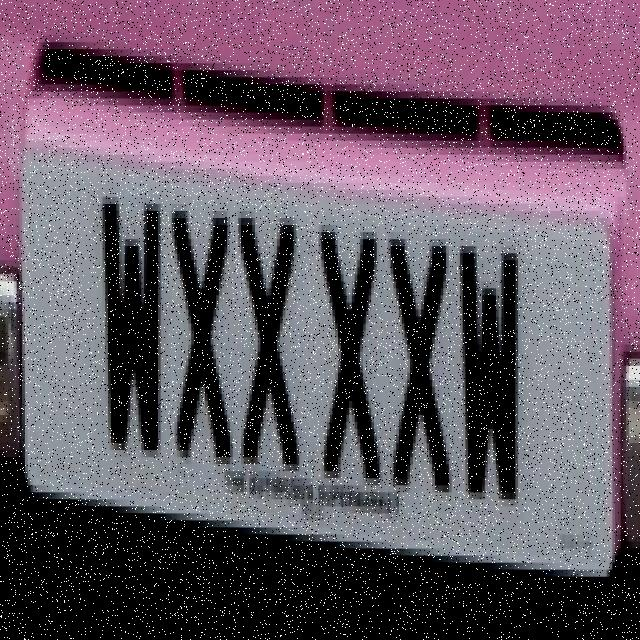licenseplate: (13, 131, 624, 591)
